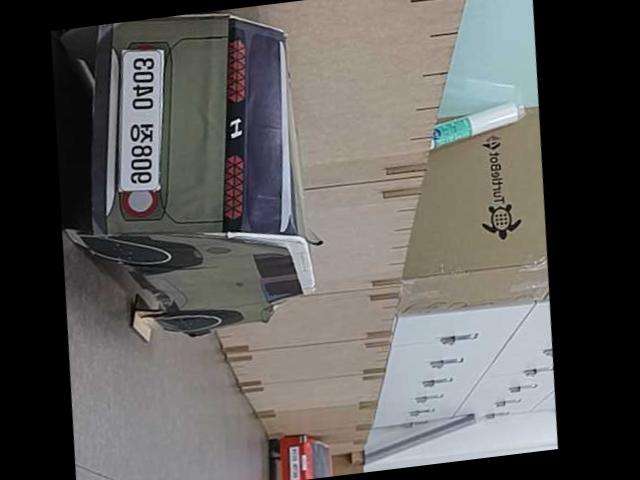car: (31, 0, 342, 354), (260, 425, 338, 480)
id: (98, 35, 183, 200), (281, 443, 305, 480)
